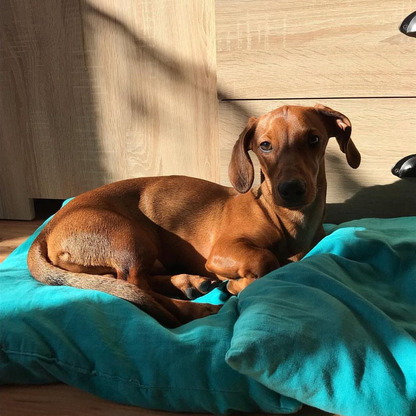dachshund: (9, 100, 390, 320)
